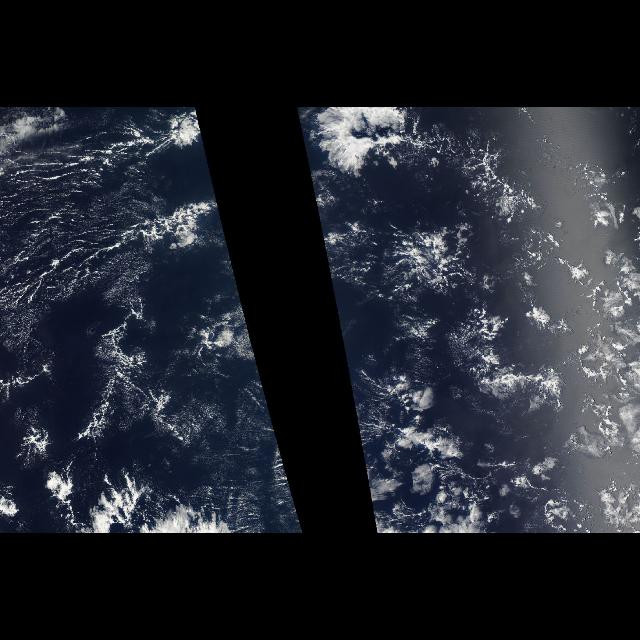Fish: (444, 302, 568, 410)
Flower: (505, 156, 639, 534), (296, 107, 418, 185), (156, 107, 214, 185)
Sugar: (1, 107, 228, 309)
